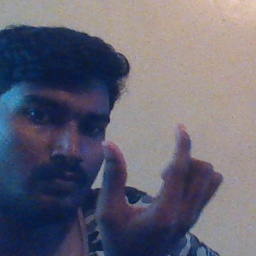U: (91, 116, 225, 248)
